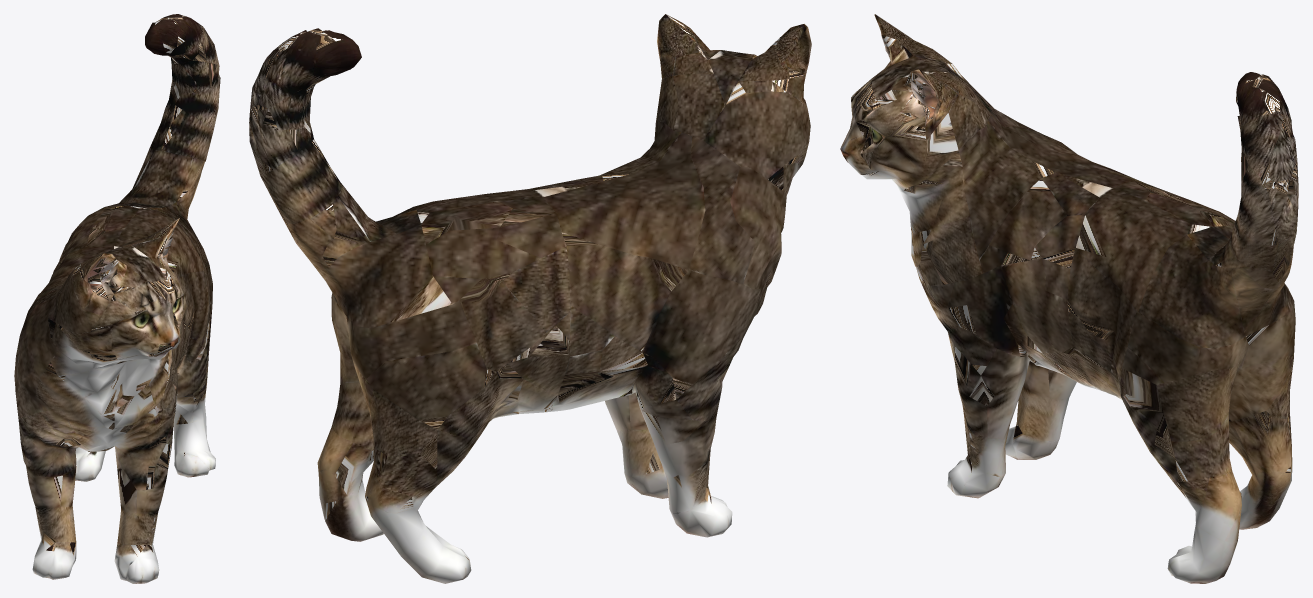
Rendered from cat.glb.
3 renders of one model, left to right at view 1: azimuth 30°, elevation 25°; view 2: azimuth 150°, elevation 25°; view 3: azimuth 270°, elevation 25°, orthographic. The views are drawn at different scales.
Parts seen in each view (by area): view 1: cat; view 2: cat; view 3: cat.
Boxes of the visible parts, x1,y1,x2,y2 form: cat: (14, 14, 220, 583); cat: (249, 14, 811, 583); cat: (840, 14, 1298, 583).
Size of the model in its own units: 0.373 by 0.4987 by 0.4145.
1 material, 1 textured.
